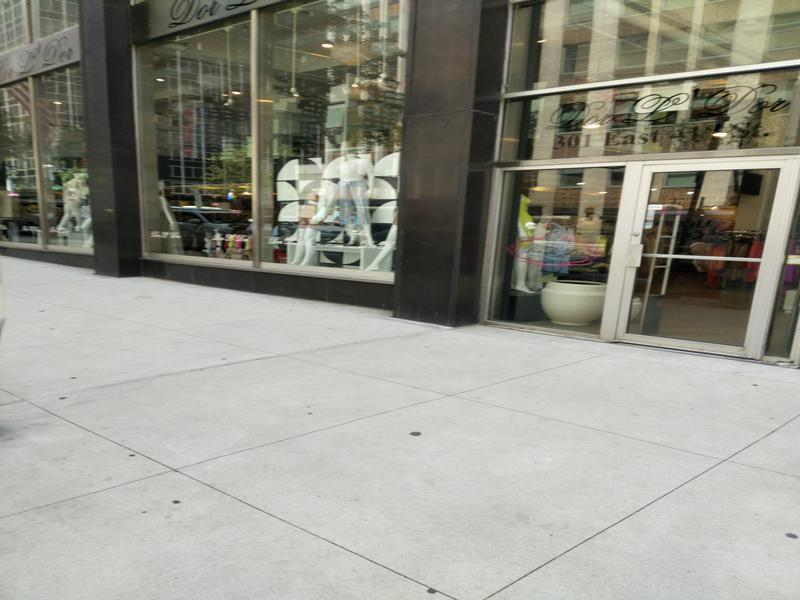door: (624, 154, 786, 361)
